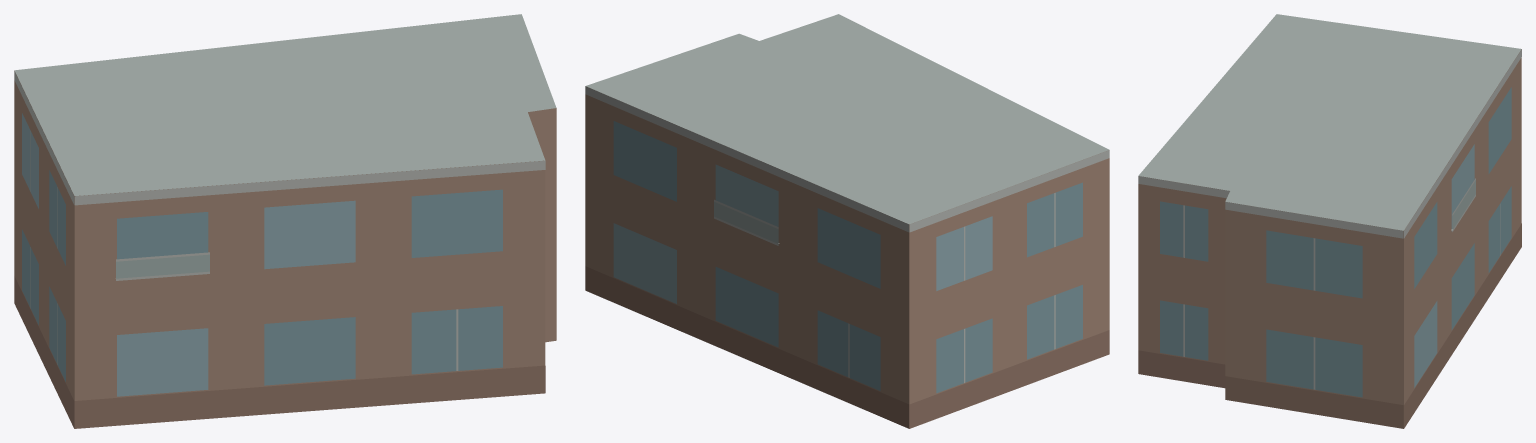
Rendered from survey-upis-32658829.glb.
The picture shows the model from 3 angles, left to right: view 1: azimuth 30°, elevation 25°; view 2: azimuth 150°, elevation 25°; view 3: azimuth 270°, elevation 25°; orthographic projection. The views are drawn at different scales.
Parts seen in each view (by area): view 1: survey-upis-32658829.tmp; view 2: survey-upis-32658829.tmp; view 3: survey-upis-32658829.tmp.
Boxes of the visible parts, x1,y1,x2,y2 form: survey-upis-32658829.tmp: [14, 14, 556, 428]; survey-upis-32658829.tmp: [585, 14, 1109, 428]; survey-upis-32658829.tmp: [1138, 14, 1521, 428].
Size of the model in its own units: 14.33 by 6.1 by 10.72.
